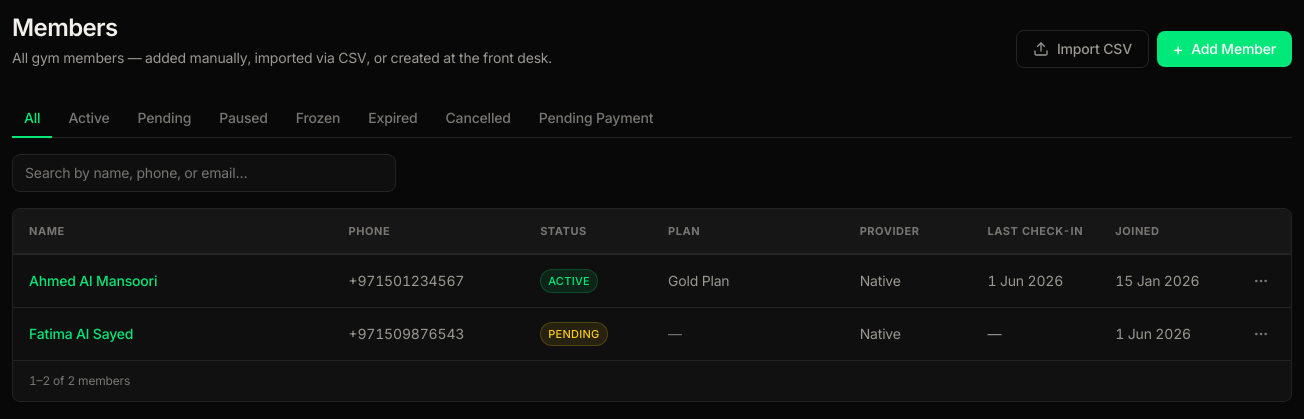
Test: MembersClient › edit member flow › opens actions menu and shows Edit option
// Click the "..." button on the first row
Click the button named "Actions for".
click(1261, 281)  # box [1247,267,1275,295]
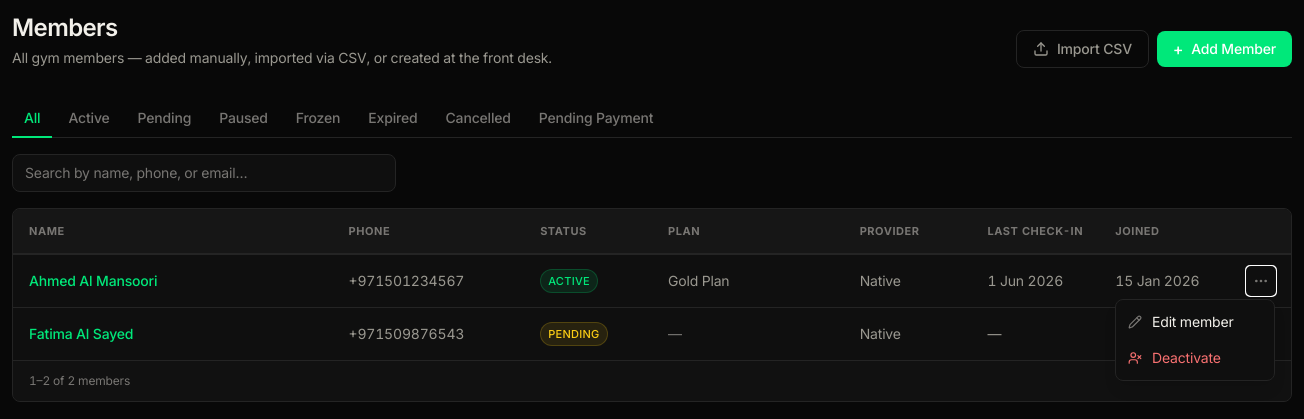
Check: the button "Edit member" is shown, box [1116,304,1274,340]
